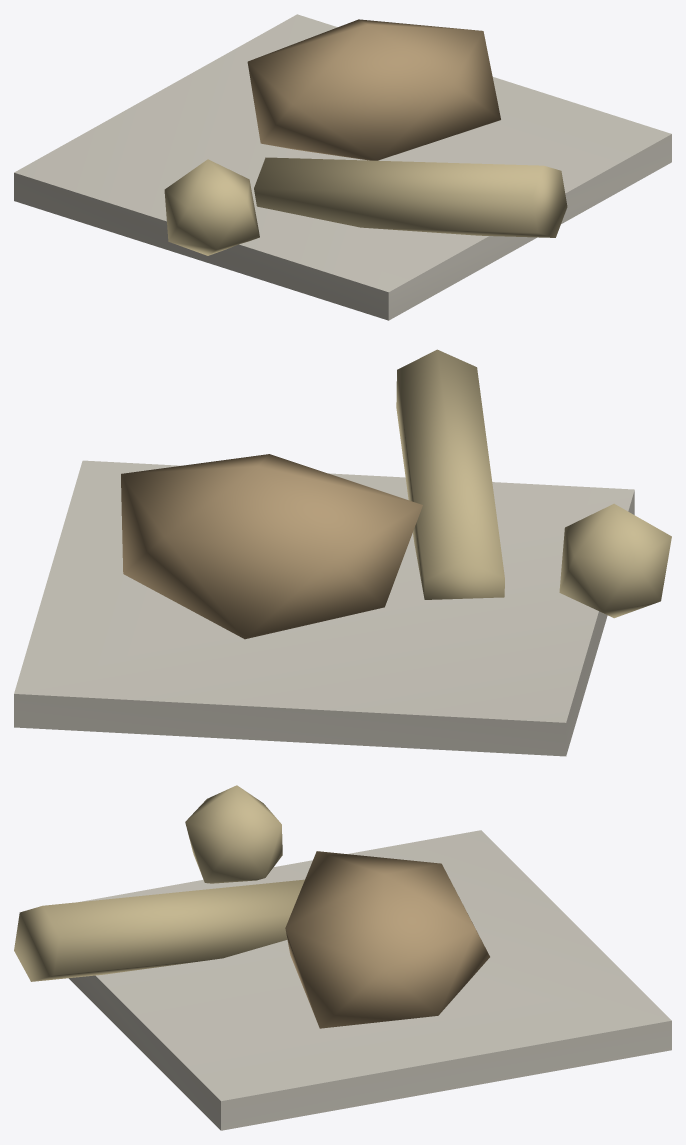
Rendered from offering_bundle.glb.
3 views of the same model, one above another, from view 1: azimuth 30°, elevation 25°; view 2: azimuth 150°, elevation 25°; view 3: azimuth 270°, elevation 25° (orthographic). The views are drawn at different scales.
Parts seen in each view (by area): view 1: offering_bundle; view 2: offering_bundle; view 3: offering_bundle.
Part boxes in pixels (x1=…): offering_bundle: x1=14, y1=14, x2=671, y2=320; offering_bundle: x1=14, y1=349, x2=671, y2=756; offering_bundle: x1=14, y1=785, x2=671, y2=1130.
Size of the model in its own units: 0.3931 by 0.1001 by 0.4032.
